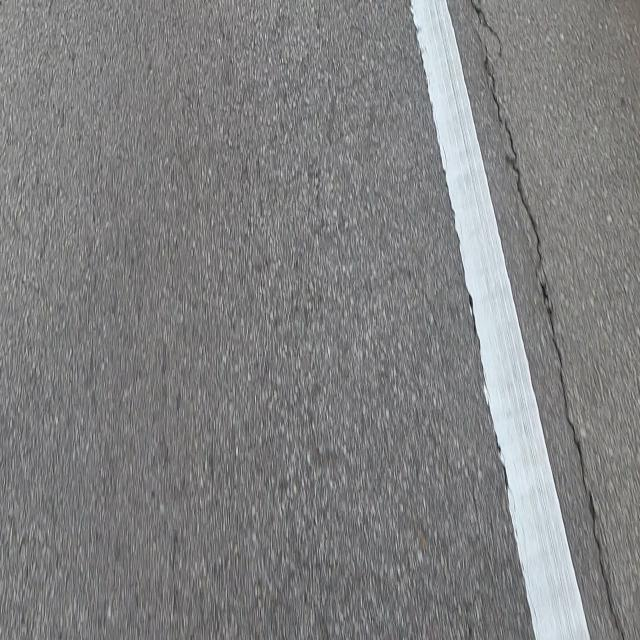Retak-Memanjang: (475, 36, 625, 640)
